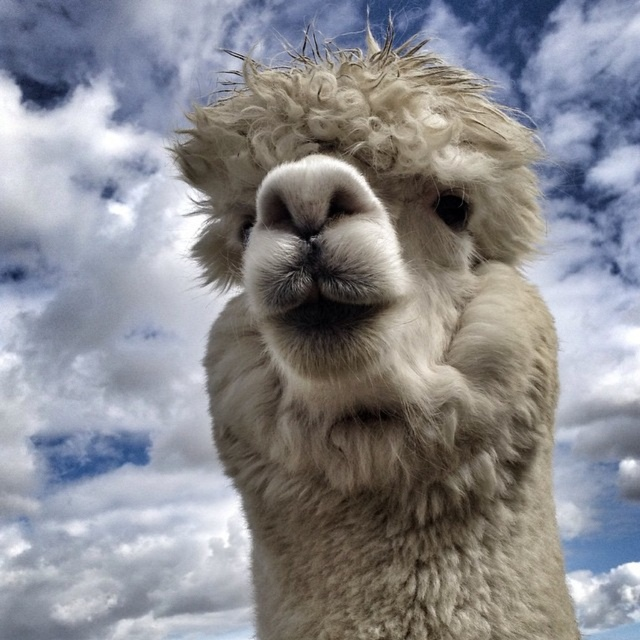Camel: (159, 0, 593, 640)
